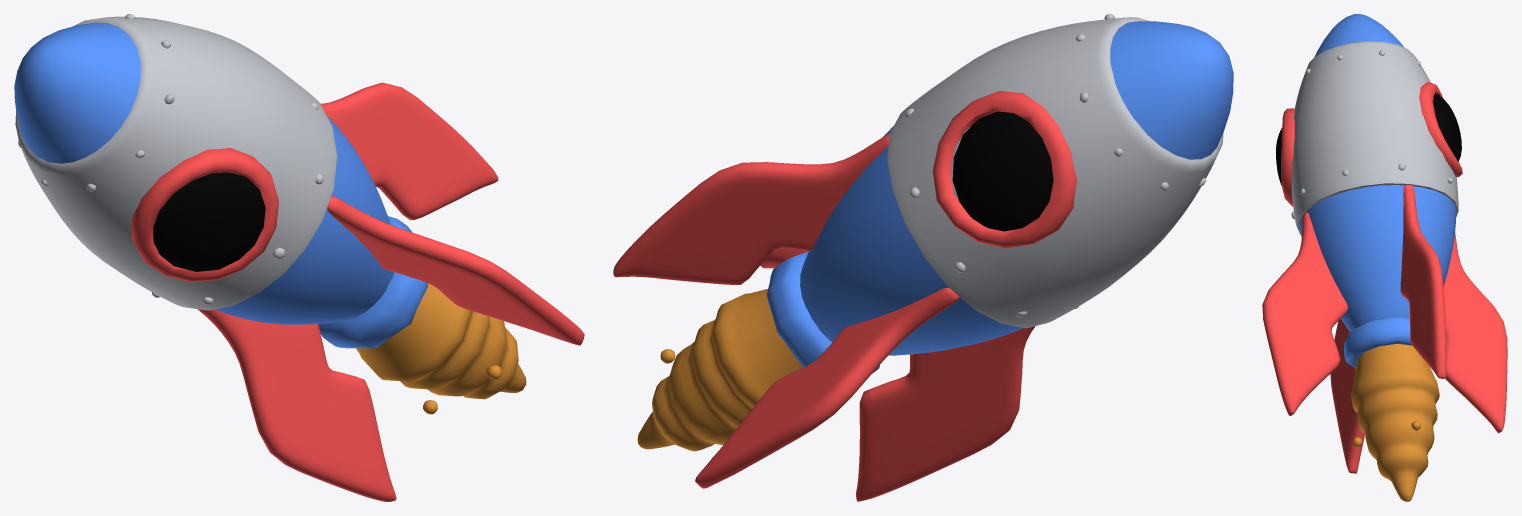
Rendered from rocket.gltf.
The picture shows the model from 3 angles, left to right: view 1: azimuth 30°, elevation 25°; view 2: azimuth 150°, elevation 25°; view 3: azimuth 270°, elevation 25°; orthographic projection. The views are drawn at different scales.
Parts seen in each view (by area): view 1: rocket4; view 2: rocket4; view 3: rocket4.
Boxes of the visible parts, x1,y1,x2,y2 form: rocket4: [14, 14, 584, 501]; rocket4: [613, 14, 1233, 501]; rocket4: [1262, 14, 1507, 501].
Size of the model in its own units: 0.5331 by 0.5091 by 0.3206.
